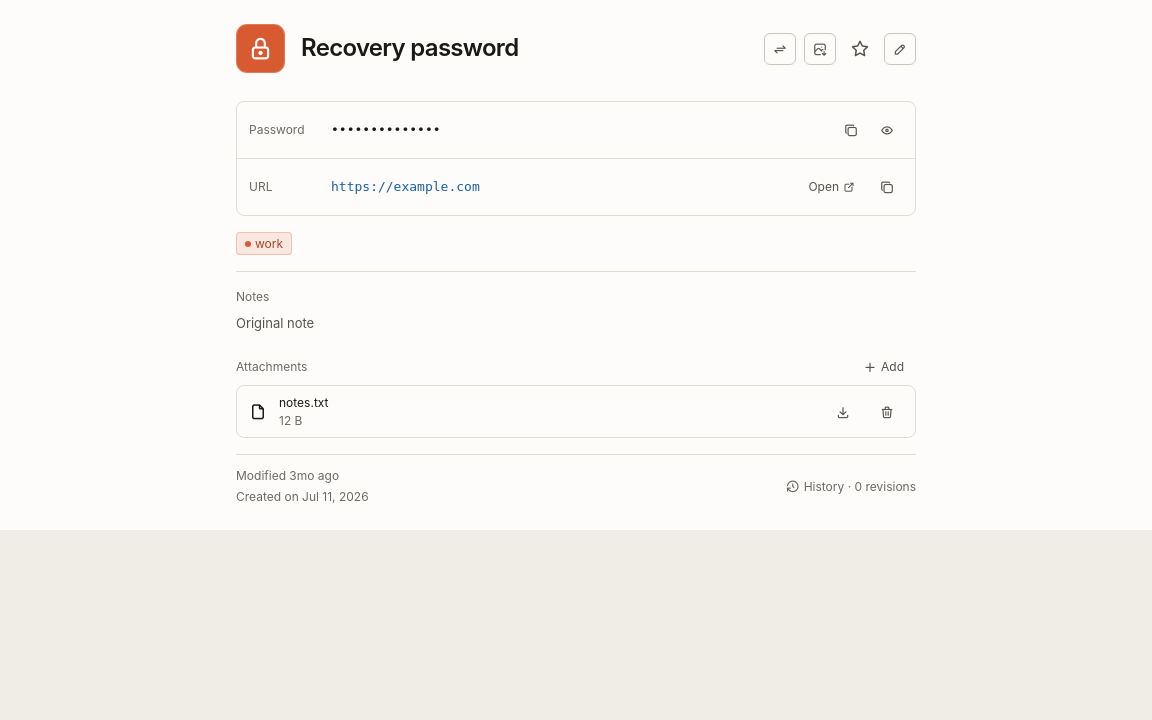
Test: entry refreshes › ignores an attachment refresh after selection changes
expect the heading "Recovery password" is shown: met, box [301,34,518,63]
Click the button named "Remove notes.txt": point(887, 412) [871,396,903,428]
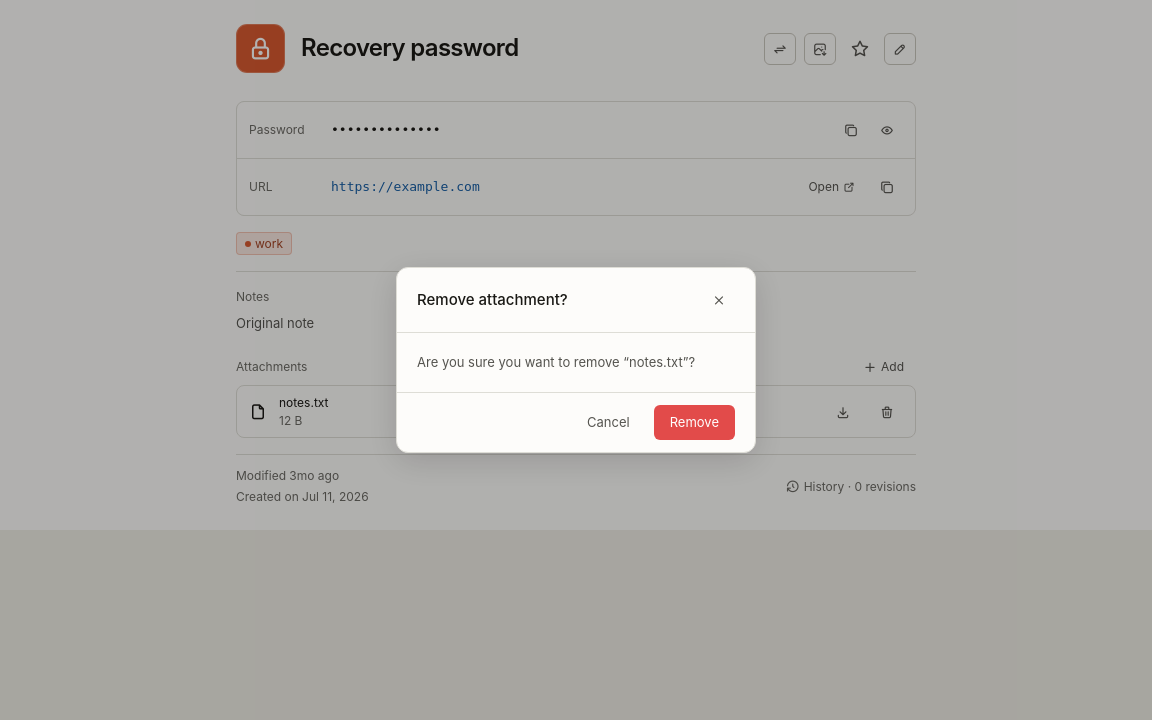
Click the button "Remove": point(694, 422) [654,405,735,440]
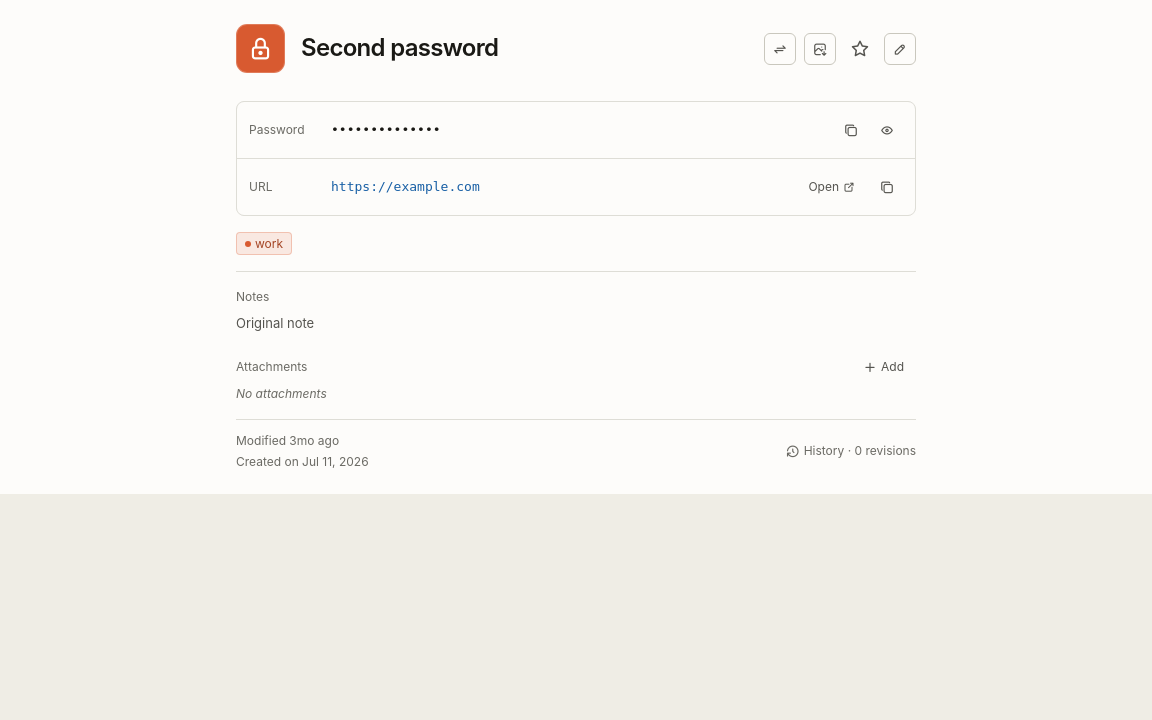
expect the heading "Second password" is shown: met, box [301,34,498,63]
